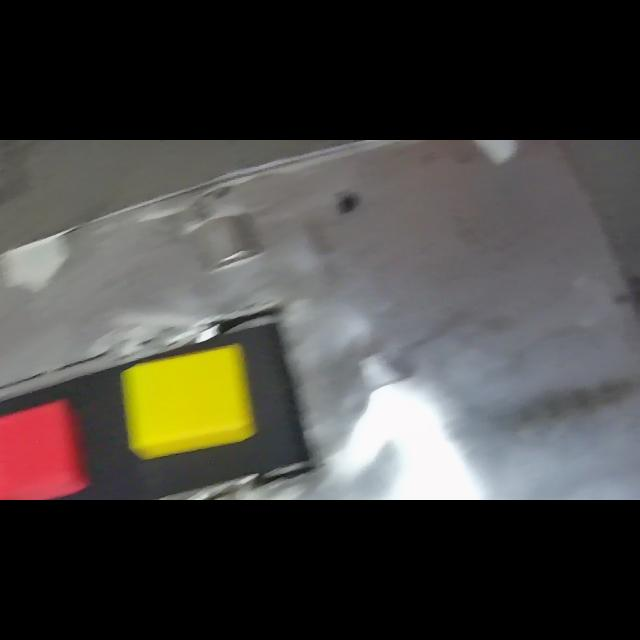redBox: (0, 388, 96, 499)
yellowBox: (114, 334, 264, 462)
